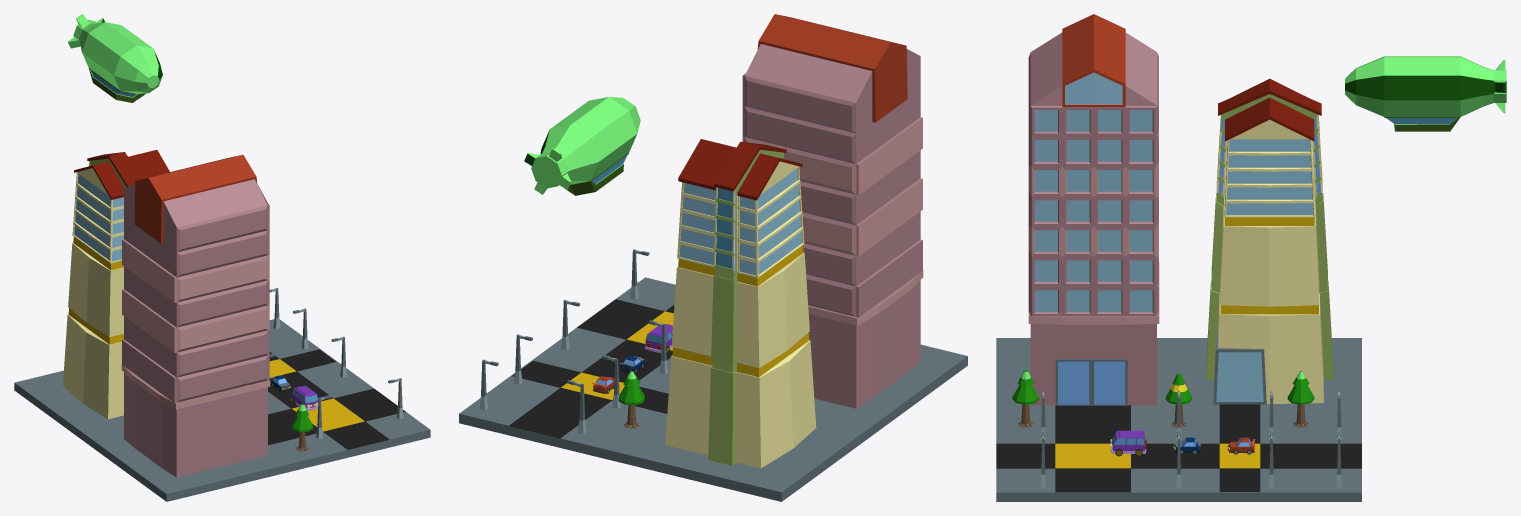
File: residents.glb
The picture shows the model from 3 angles, left to right: view 1: azimuth 30°, elevation 25°; view 2: azimuth 150°, elevation 25°; view 3: azimuth 270°, elevation 25°; orthographic projection. The views are drawn at different scales.
Visible parts, largest first — view 1: Cube, Cube.016, Cube.015; view 2: Cube, Cube.016; view 3: Cube, Cube.016, Cube.015.
Part boxes in pixels (x1=…): Cube: x1=14, y1=150, x2=430, y2=501; Cube.016: x1=67, y1=14, x2=162, y2=102; Cube.015: x1=291, y1=385, x2=318, y2=410; Cube: x1=459, y1=14, x2=967, y2=501; Cube.016: x1=524, y1=97, x2=640, y2=195; Cube: x1=996, y1=14, x2=1361, y2=501; Cube.016: x1=1345, y1=56, x2=1506, y2=131; Cube.015: x1=1110, y1=430, x2=1146, y2=453.
Bounding box in the file's own units: 2 × 2.22 × 2.79.
1 material, 1 textured.
